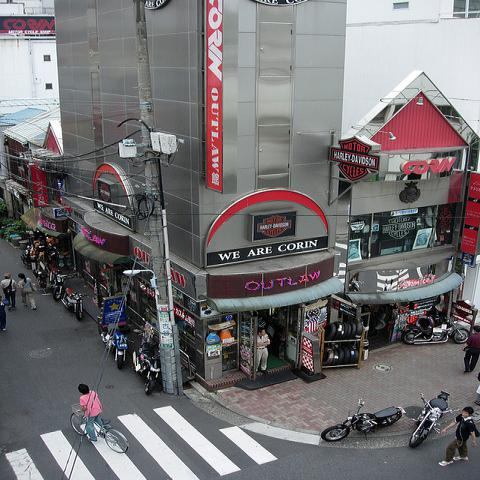motorcycle: (322, 398, 406, 442), (409, 390, 460, 447), (401, 316, 471, 344), (101, 323, 134, 370), (131, 341, 160, 394), (60, 288, 87, 320), (42, 272, 70, 298), (20, 251, 38, 270)
